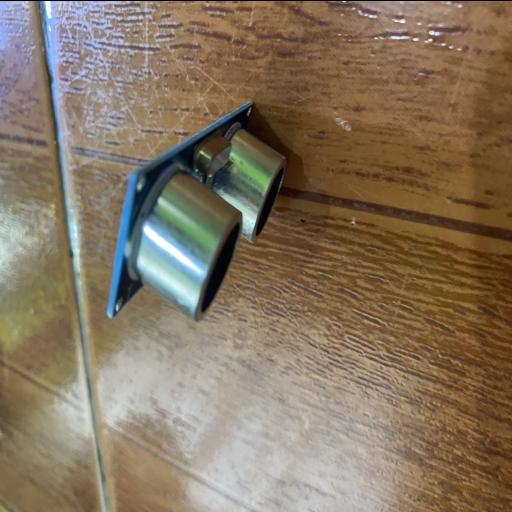Ultrasonic Sensor: (106, 100, 288, 322)
